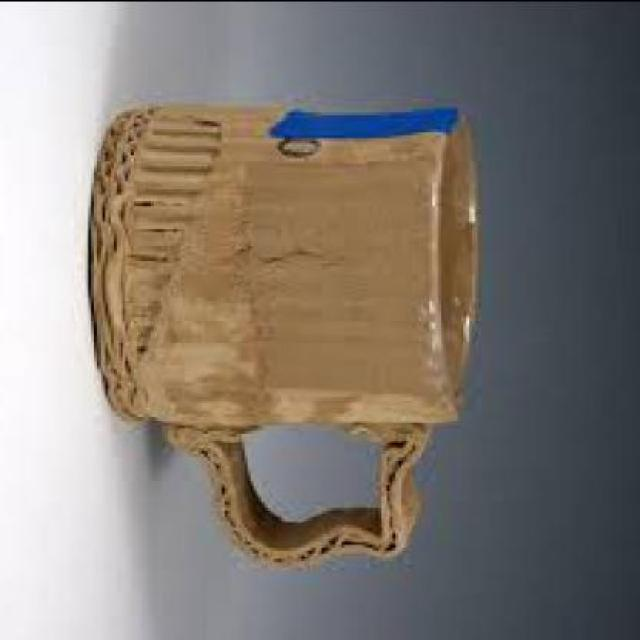CARDBOARD: (90, 102, 482, 561)
